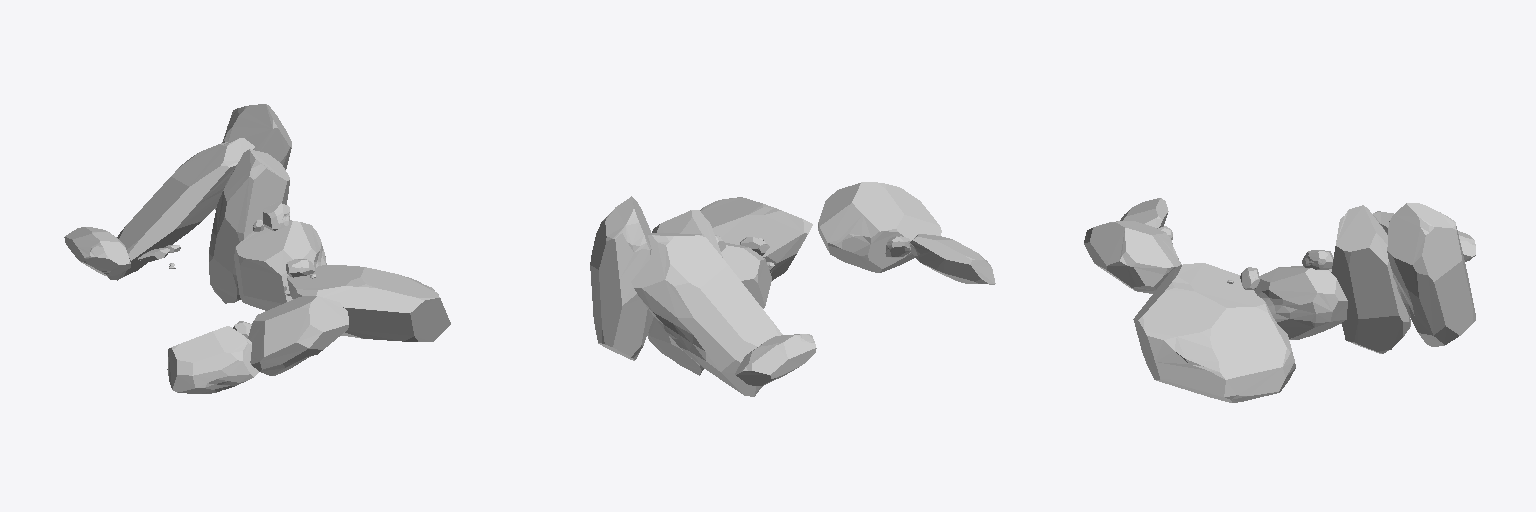
File: rocks_background.obj
3 views of the same model, side by side, from view 1: azimuth 30°, elevation 25°; view 2: azimuth 150°, elevation 25°; view 3: azimuth 270°, elevation 25° (orthographic).
Parts seen in each view (by area): view 1: Cube.029_Cube.026, Cube.036_Cube.026, Cube.015_Cube.026, Cube.041_Cube.026, Cube.016_Cube.026, Cube.044_Cube.026, Cube.001_Cube.026, Cube.037_Cube.026, Cube.017_Cube.026; view 2: Cube.036_Cube.026, Cube.001_Cube.026, Cube.041_Cube.026, Cube.029_Cube.026, Cube.037_Cube.026, Cube.044_Cube.026, Cube.015_Cube.026, Cube.016_Cube.026; view 3: Cube.029_Cube.026, Cube.001_Cube.026, Cube.015_Cube.026, Cube.016_Cube.026, Cube.041_Cube.026, Cube.044_Cube.026, Cube.017_Cube.026.
Part boxes in pixels (x1,y1,x2,y2): Cube.029_Cube.026: (287,265,450,341); Cube.036_Cube.026: (108,138,254,280); Cube.015_Cube.026: (209,149,289,303); Cube.041_Cube.026: (248,296,348,375); Cube.016_Cube.026: (234,220,326,310); Cube.044_Cube.026: (167,326,258,393); Cube.001_Cube.026: (215,104,291,209); Cube.037_Cube.026: (64,227,130,276); Cube.017_Cube.026: (263,202,289,230); Cube.036_Cube.026: (631,233,782,396); Cube.001_Cube.026: (590,196,653,360); Cube.041_Cube.026: (818,182,941,272); Cube.029_Cube.026: (700,197,812,280); Cube.037_Cube.026: (735,334,816,385); Cube.044_Cube.026: (909,234,995,284); Cube.015_Cube.026: (647,210,722,375); Cube.016_Cube.026: (721,242,771,308); Cube.029_Cube.026: (1133,263,1295,402); Cube.001_Cube.026: (1387,203,1475,346); Cube.015_Cube.026: (1331,205,1410,353); Cube.016_Cube.026: (1254,266,1347,339); Cube.041_Cube.026: (1084,221,1181,293); Cube.044_Cube.026: (1120,198,1168,227); Cube.017_Cube.026: (1302,250,1333,269).
Bounding box in the file's own units: 35.97 × 19.48 × 39.23.